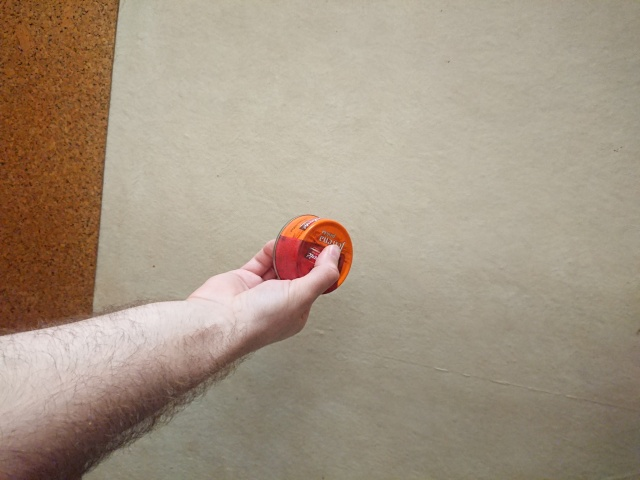Gavrilovic Pork Liver Pate 100g: (270, 212, 355, 296)
